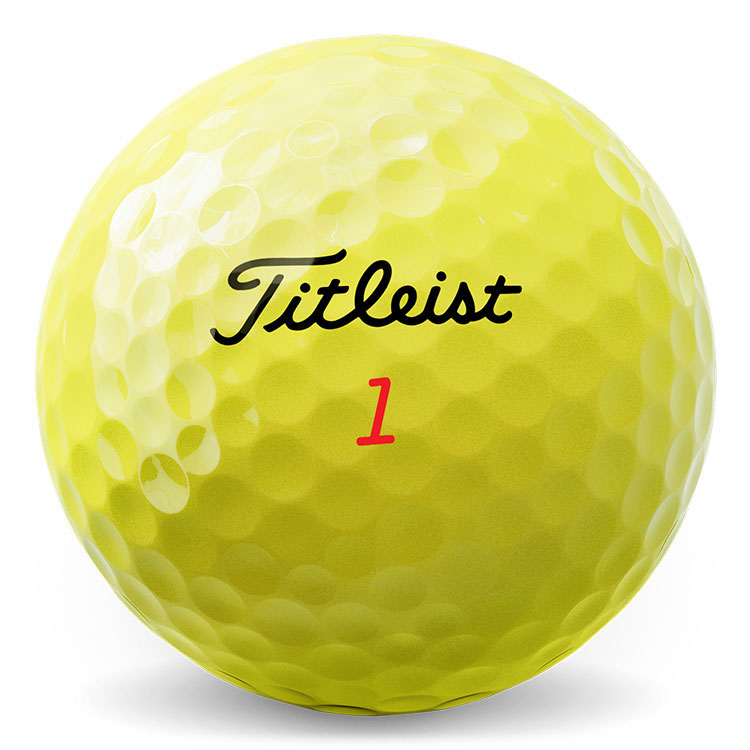golfball: (28, 31, 726, 722)
